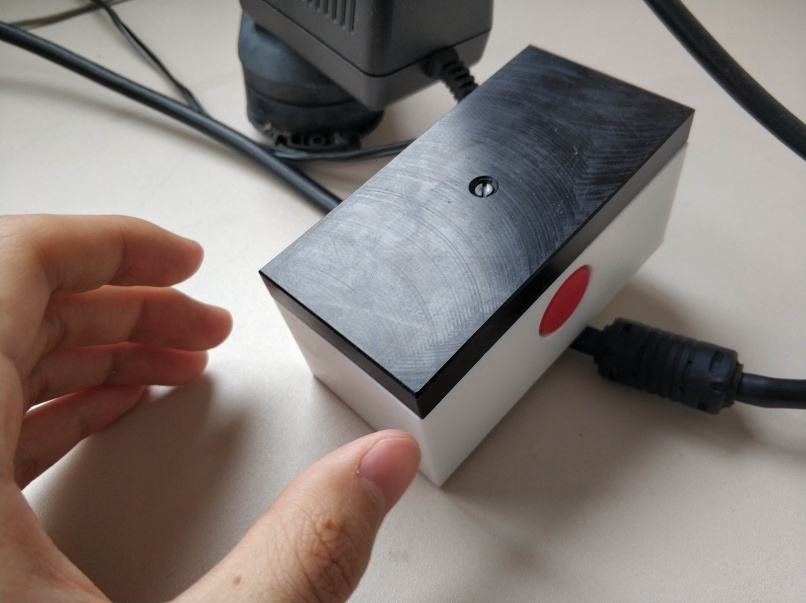black+white+red: (255, 42, 698, 494)
